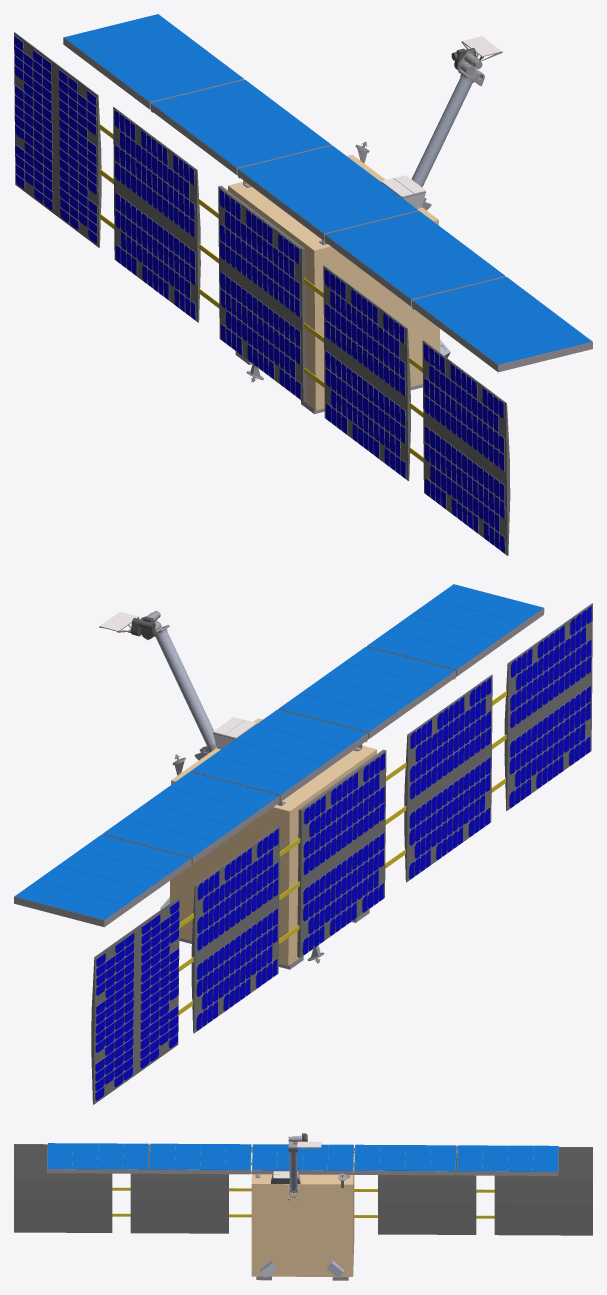
3 renders of one model, top to bottom at view 1: azimuth 30°, elevation 25°; view 2: azimuth 150°, elevation 25°; view 3: azimuth 270°, elevation 25°, orthographic. The views are drawn at different scales.
Parts seen in each view (by area): view 1: SatelliteBus, SolarPanels, GimbalArm; view 2: SatelliteBus, SolarPanels, GimbalArm; view 3: SatelliteBus, GimbalArm.
Boxes of the visible parts, bbox=[...] form: SatelliteBus: bbox=[14, 14, 592, 555]; SolarPanels: bbox=[14, 36, 504, 553]; GimbalArm: bbox=[411, 51, 484, 201]; SatelliteBus: bbox=[14, 584, 592, 1104]; SolarPanels: bbox=[95, 606, 591, 1100]; GimbalArm: bbox=[141, 611, 216, 752]; SatelliteBus: bbox=[14, 1143, 592, 1280]; GimbalArm: bbox=[288, 1135, 301, 1197].
Size of the model in its own units: 1.06 by 1.24 by 3.8.
